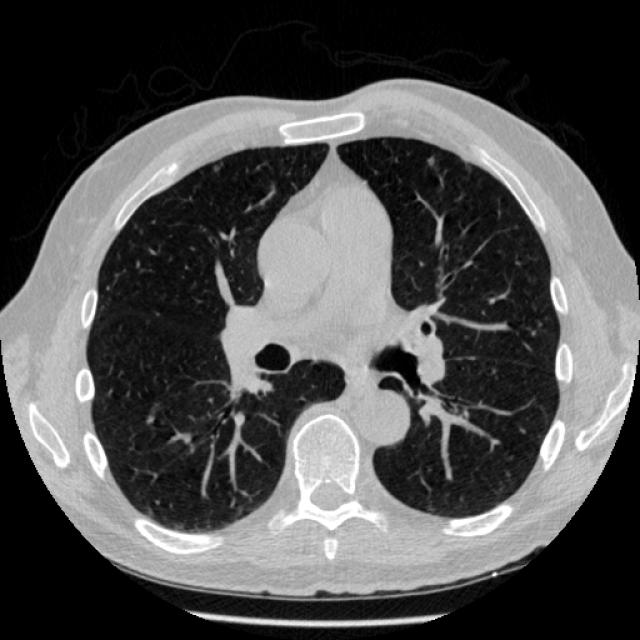nodule: (422, 152, 438, 166)
